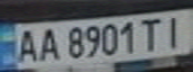0: (100, 20, 121, 56)
1: (118, 18, 142, 54)
8: (63, 24, 84, 60)
9: (81, 22, 103, 58)
A: (9, 26, 42, 64), (33, 25, 63, 62)
I: (160, 12, 193, 48)
T: (136, 15, 166, 51)
